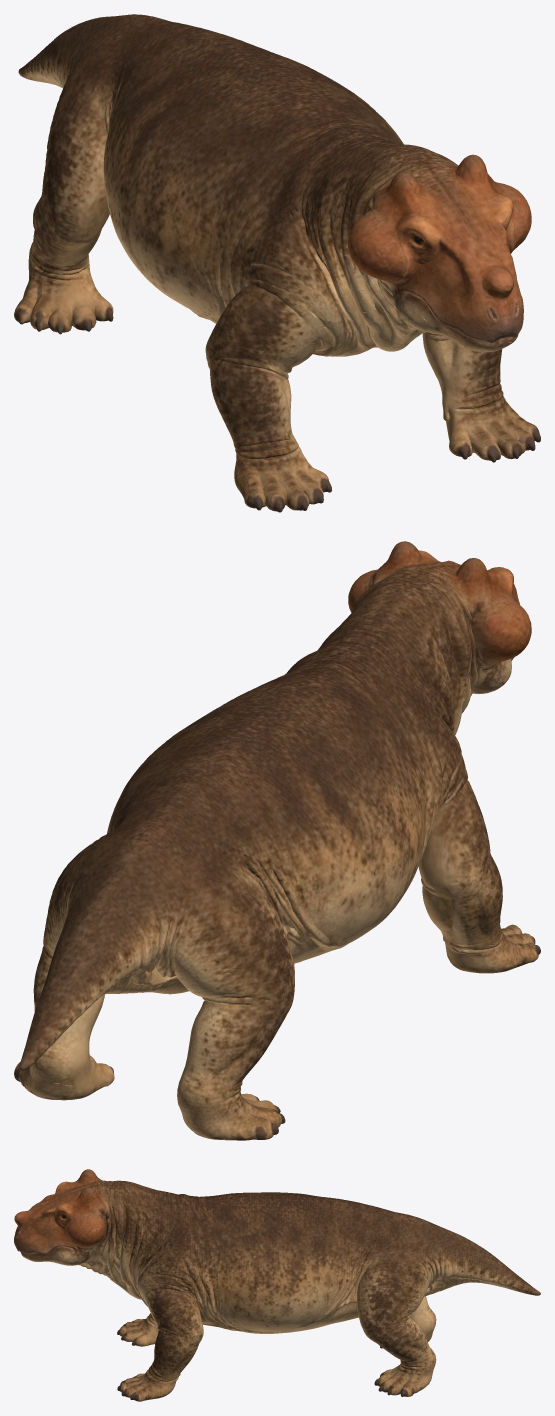
3 views of the same model, one above another, from view 1: azimuth 30°, elevation 25°; view 2: azimuth 150°, elevation 25°; view 3: azimuth 270°, elevation 25° (orthographic). The views are drawn at different scales.
Parts seen in each view (by area): view 1: Authored orientation; view 2: Authored orientation; view 3: Authored orientation.
Boxes of the visible parts, bbox=[...] form: Authored orientation: bbox=[14, 14, 540, 512]; Authored orientation: bbox=[14, 541, 540, 1140]; Authored orientation: bbox=[14, 1169, 540, 1401].
Size of the model in its own units: 1.09 by 1.22 by 3.16.
Materials: 1 (1 with a texture image).
